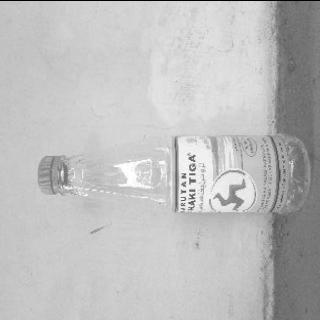plastic_bottles: (35, 128, 316, 214)
